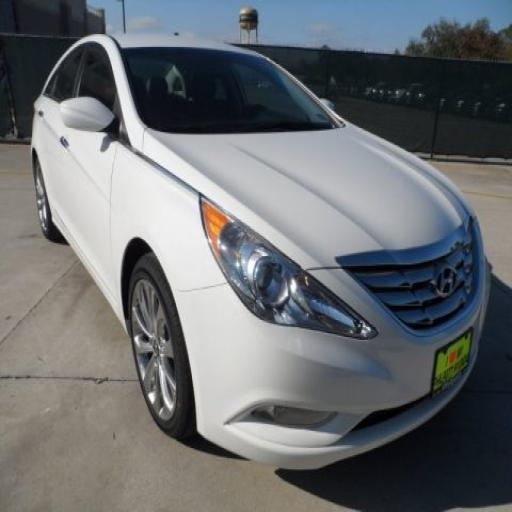dent: (142, 126, 330, 304)
